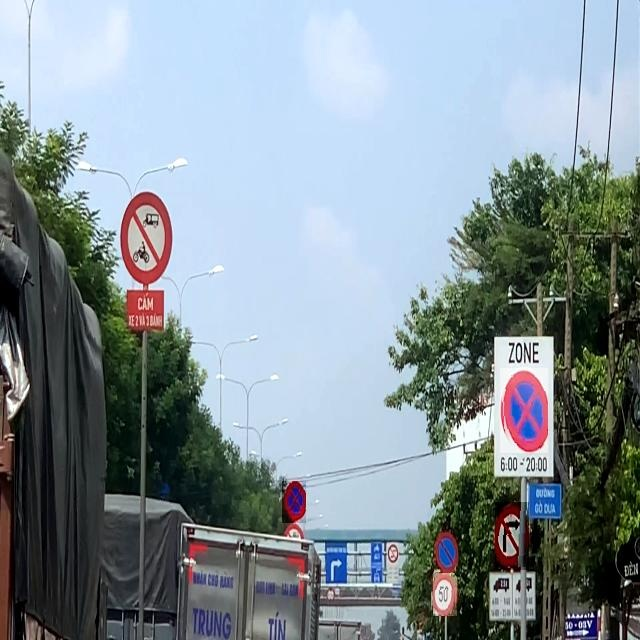bien_cam: (500, 368, 548, 453), (495, 502, 529, 570), (433, 573, 458, 616), (282, 481, 306, 523), (434, 530, 458, 572)
